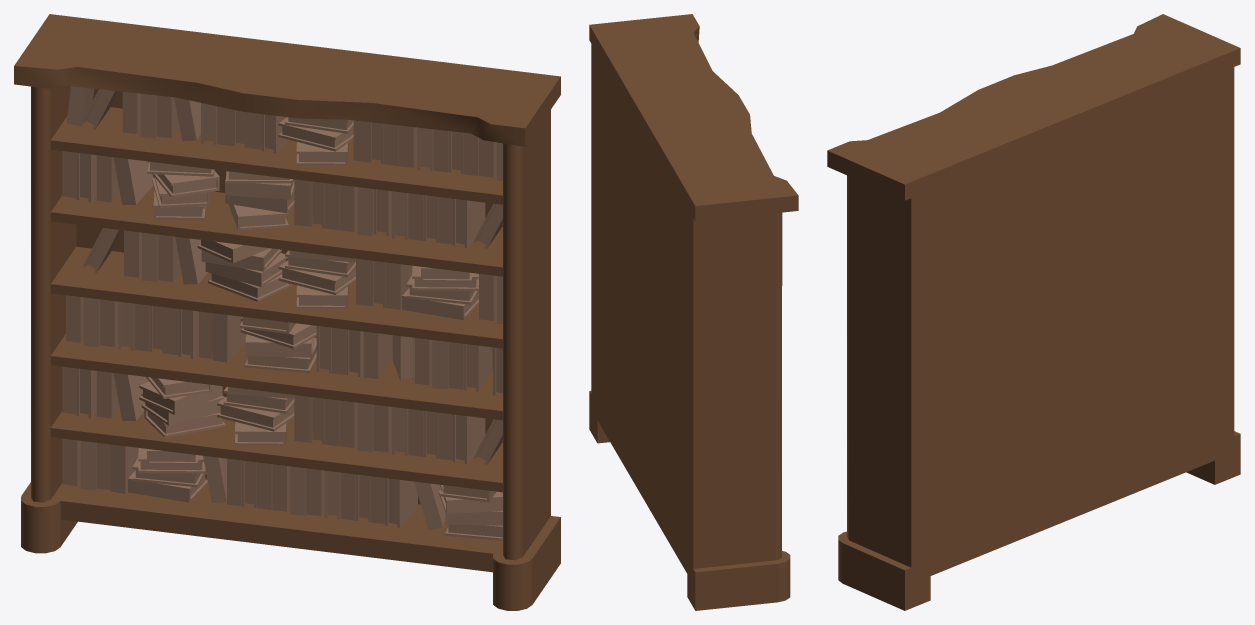
Rendered from bookshelf-1651bc85.glb.
3 views of the same model, side by side, from view 1: azimuth 30°, elevation 25°; view 2: azimuth 150°, elevation 25°; view 3: azimuth 270°, elevation 25° (orthographic). The views are drawn at different scales.
Visible parts, largest first — view 1: Cylinder005_bookshelf_0, Object001_books_0; view 2: Cylinder005_bookshelf_0; view 3: Cylinder005_bookshelf_0.
Boxes of the visible parts, bbox=[...] form: Cylinder005_bookshelf_0: bbox=[14, 14, 560, 610]; Object001_books_0: bbox=[62, 86, 502, 540]; Cylinder005_bookshelf_0: bbox=[589, 14, 798, 610]; Cylinder005_bookshelf_0: bbox=[827, 14, 1240, 610].
Size of the model in its own units: 2.17 by 2.53 by 2.22.
